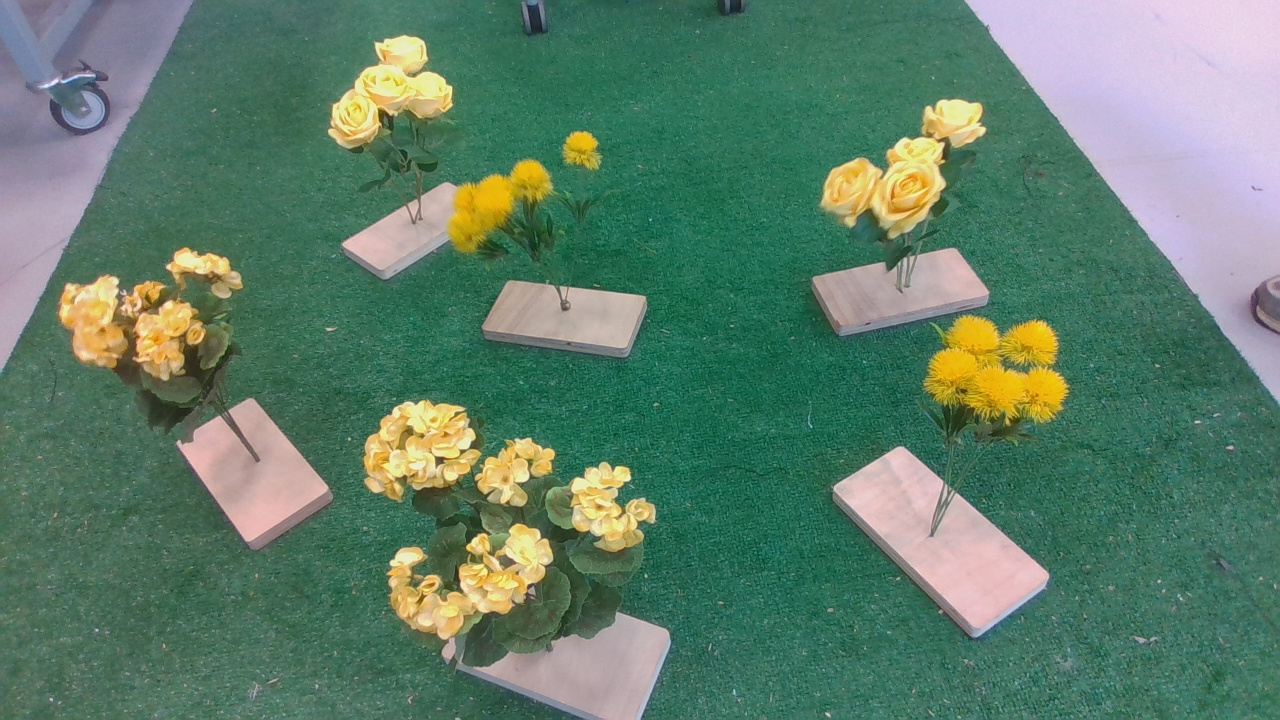dandelion: (435, 133, 615, 268), (912, 313, 1080, 451)
geranium: (350, 392, 664, 678), (56, 234, 261, 452)
rose: (820, 97, 1008, 292), (324, 38, 469, 164)
